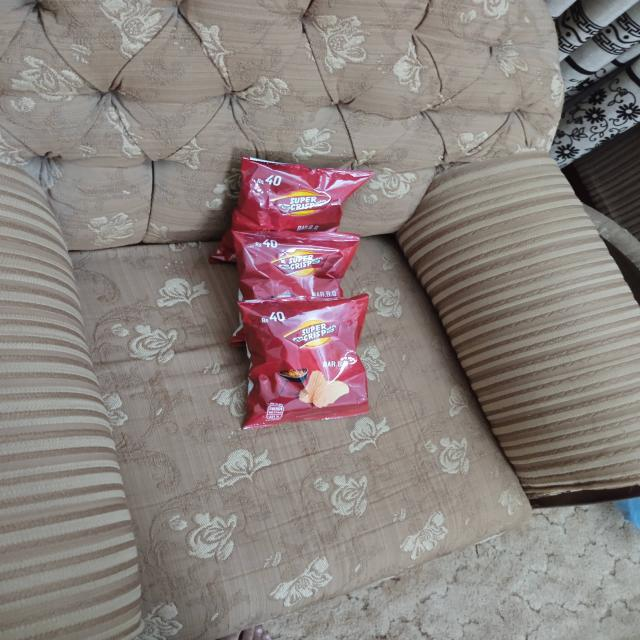Plastic: (242, 302, 374, 421), (233, 158, 369, 231), (225, 232, 364, 298)
